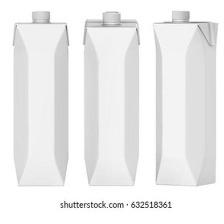carton: (149, 6, 220, 188), (8, 8, 73, 190), (81, 8, 142, 189)
